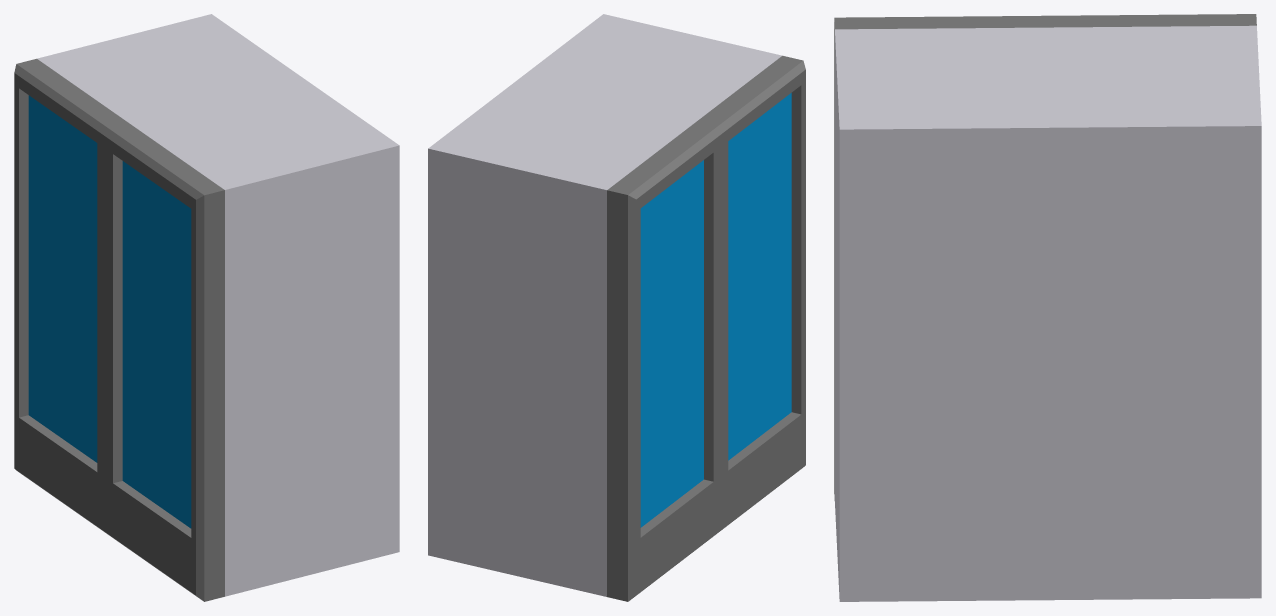
Rendered from closet.fbx.
The picture shows the model from 3 angles, left to right: view 1: azimuth 30°, elevation 25°; view 2: azimuth 150°, elevation 25°; view 3: azimuth 270°, elevation 25°; orthographic projection. The views are drawn at different scales.
Visible parts, largest first — view 1: closet; view 2: closet; view 3: closet.
Boxes of the visible parts, box(x1,y1,x2,y2) form: closet: box(14, 14, 399, 601); closet: box(428, 14, 805, 601); closet: box(834, 14, 1261, 601).
Size of the model in its own units: 180 by 334 by 274.
